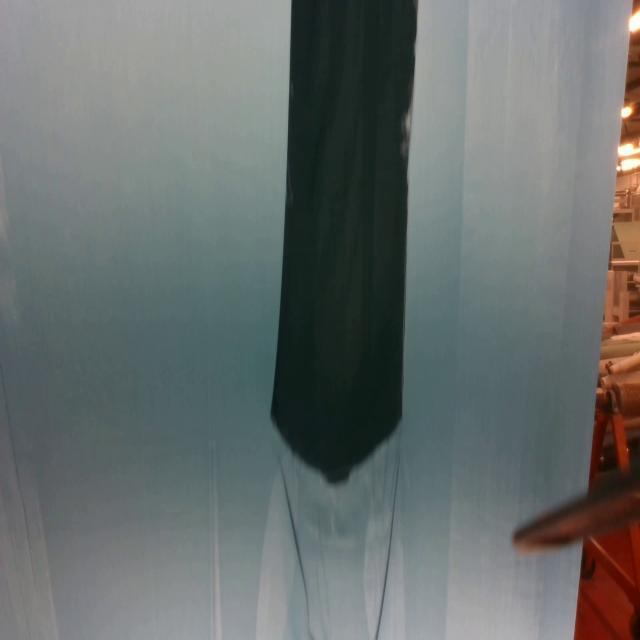crease: (0, 363, 37, 595), (276, 452, 312, 619), (373, 453, 403, 640), (210, 415, 220, 640)
hole: (271, 0, 421, 488)
